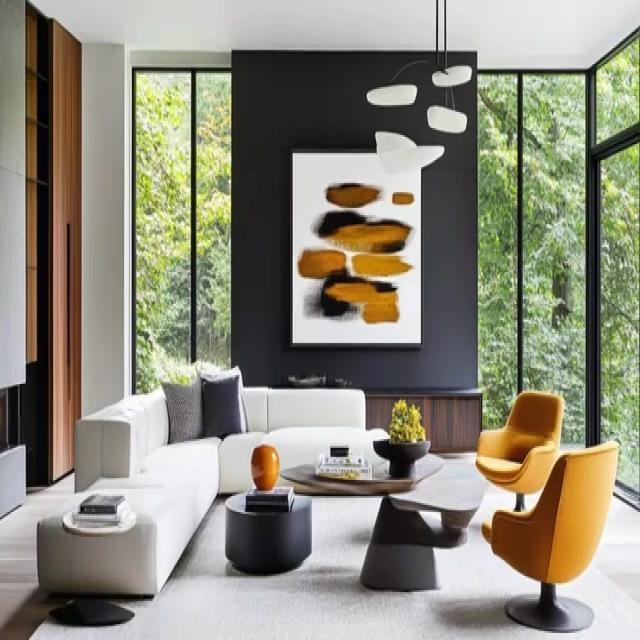obstacle: (71, 376, 390, 594), (481, 439, 619, 631), (474, 390, 564, 520)
